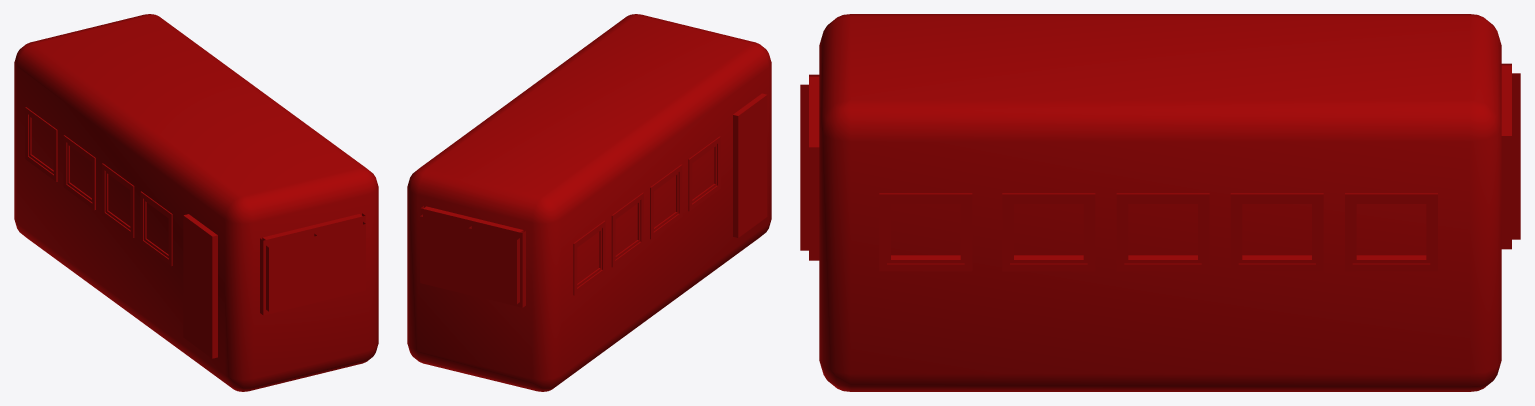
Rendered from bahn.FBX.
3 views of the same model, side by side, from view 1: azimuth 30°, elevation 25°; view 2: azimuth 150°, elevation 25°; view 3: azimuth 270°, elevation 25° (orthographic). The views are drawn at different scales.
Parts seen in each view (by area): view 1: ChamferBox001, FixedWindow010, PivotDoor001, FixedWindow001, FixedWindow003, FixedWindow004, FixedWindow002; view 2: ChamferBox001, FixedWindow011, PivotDoor001, FixedWindow004, FixedWindow002, FixedWindow001, FixedWindow003; view 3: ChamferBox001, FixedWindow006, FixedWindow007, FixedWindow008, FixedWindow009, FixedWindow005, FixedWindow010, FixedWindow011.
Boxes of the visible parts, bbox=[...] form: ChamferBox001: bbox=[14, 14, 378, 391]; FixedWindow010: bbox=[260, 213, 365, 315]; PivotDoor001: bbox=[183, 214, 217, 358]; FixedWindow001: bbox=[25, 107, 57, 181]; FixedWindow003: bbox=[102, 163, 134, 237]; FixedWindow004: bbox=[140, 191, 172, 266]; FixedWindow002: bbox=[63, 135, 95, 209]; ChamferBox001: bbox=[407, 14, 771, 391]; FixedWindow011: bbox=[420, 206, 525, 307]; PivotDoor001: bbox=[733, 93, 767, 237]; FixedWindow004: bbox=[688, 136, 720, 211]; FixedWindow002: bbox=[611, 192, 643, 267]; FixedWindow001: bbox=[573, 220, 605, 295]; FixedWindow003: bbox=[650, 164, 682, 239]; ChamferBox001: bbox=[819, 14, 1501, 391]; FixedWindow006: bbox=[1230, 193, 1323, 271]; FixedWindow007: bbox=[1116, 193, 1209, 271]; FixedWindow008: bbox=[1002, 193, 1095, 271]; FixedWindow009: bbox=[879, 193, 972, 271]; FixedWindow005: bbox=[1345, 193, 1437, 271]; FixedWindow010: bbox=[800, 74, 819, 260]; FixedWindow011: bbox=[1501, 63, 1520, 249].
Bounding box in the file's own units: 32.13 × 36.32 × 82.
